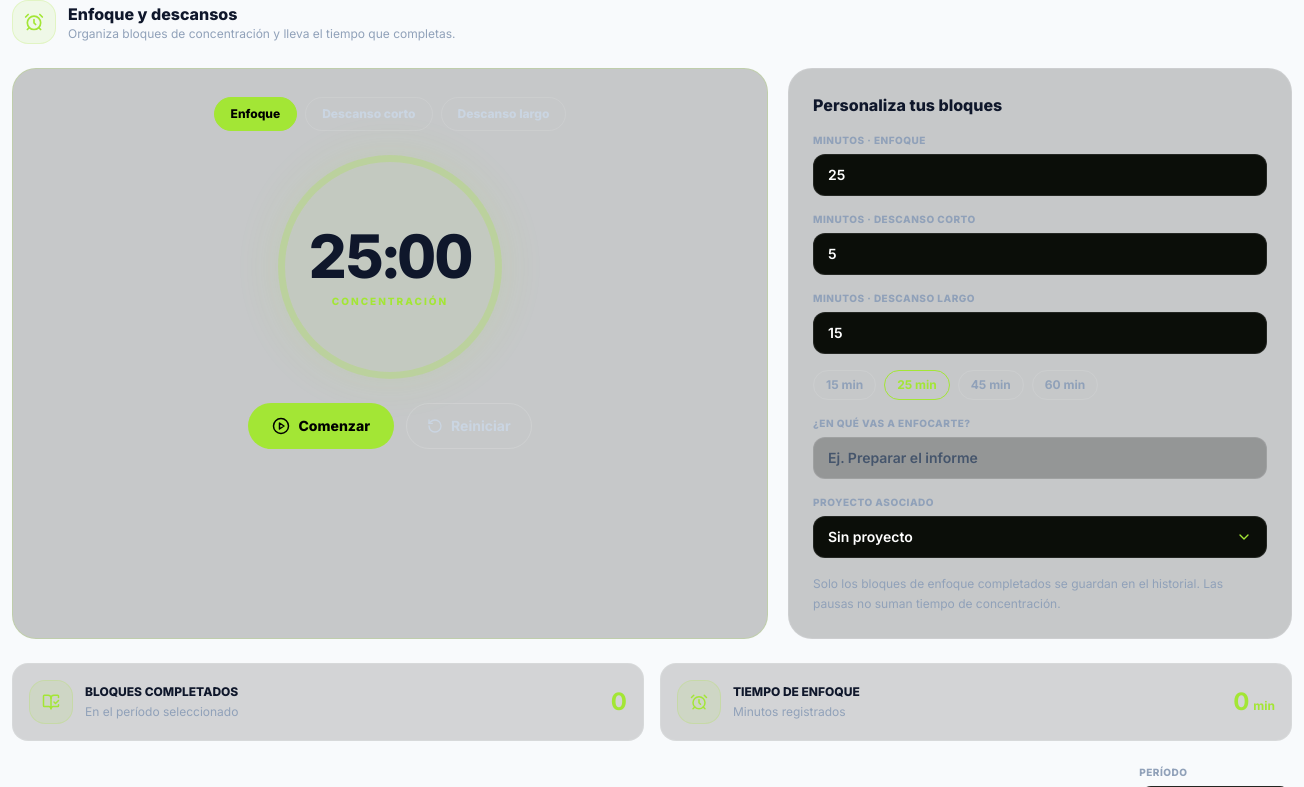
Test: herramienta de enfoque › registra la sesión al completar el temporizador y muestra su resultado
Replace the text in the number field labelled "Minutos · Enfoque" with "1": [1040, 175] box [813, 154, 1267, 196]
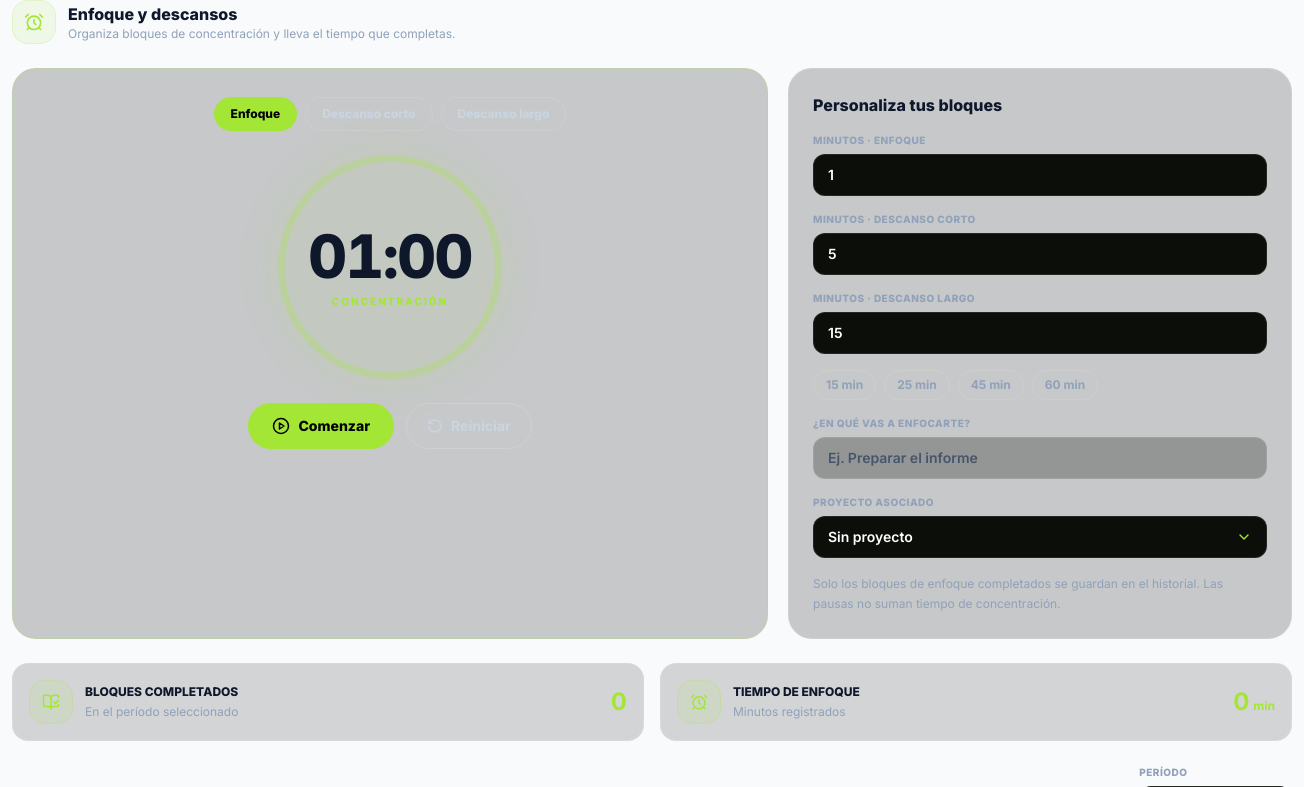
In the field labelled "¿En qué vas a enfocarte?": [1040, 458] box [813, 437, 1267, 479], type "Preparar entrega"
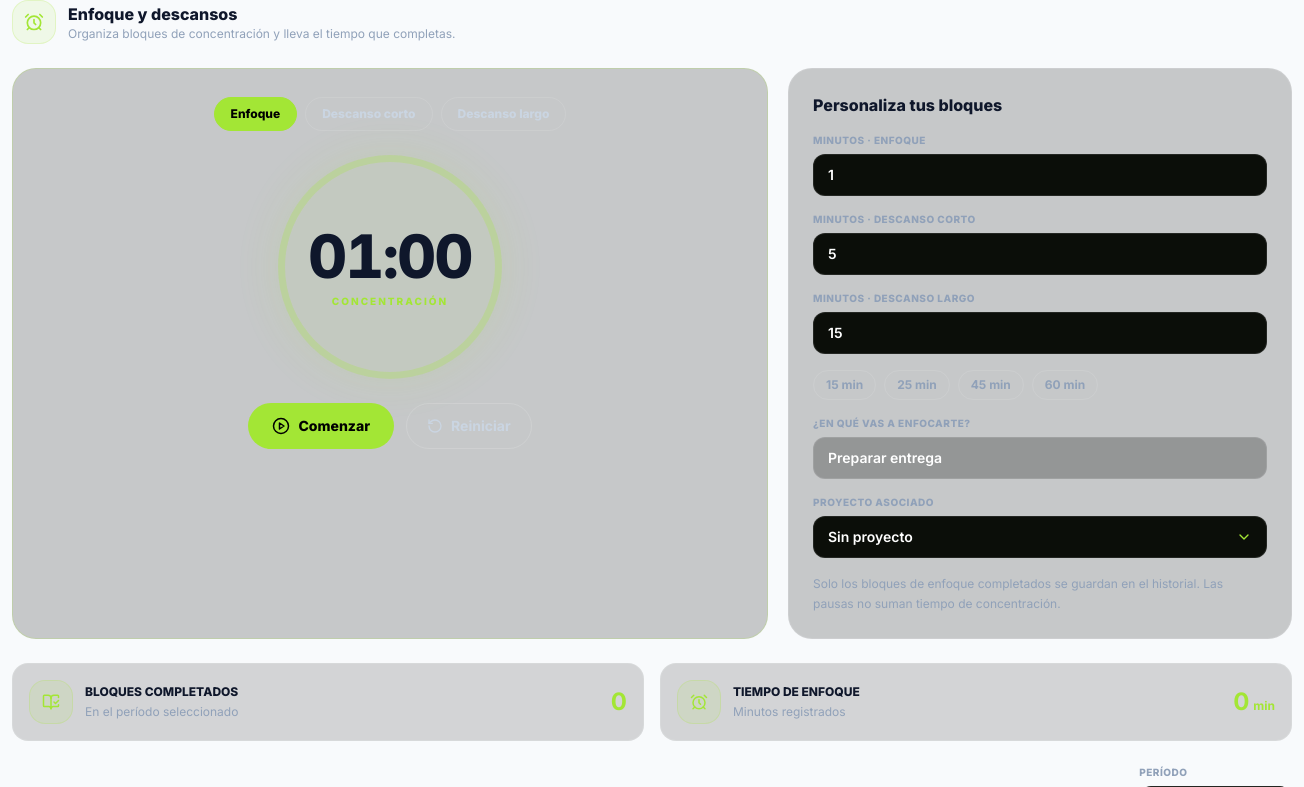
Click the button "Comenzar": [321, 426] box [248, 403, 394, 449]
Wait 60000 ms
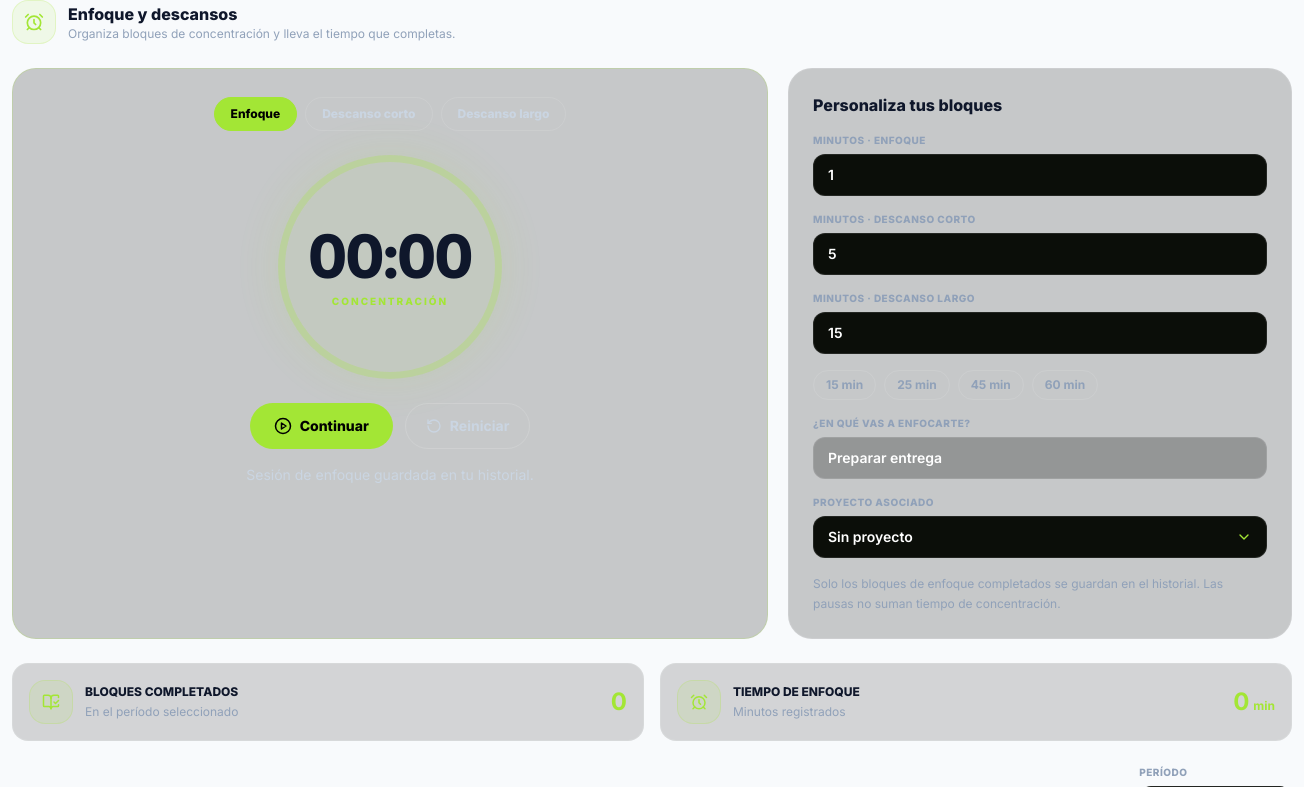
Expected: the text "Sesión de enfoque guardada en tu historial." is shown, [246, 466, 534, 483]
